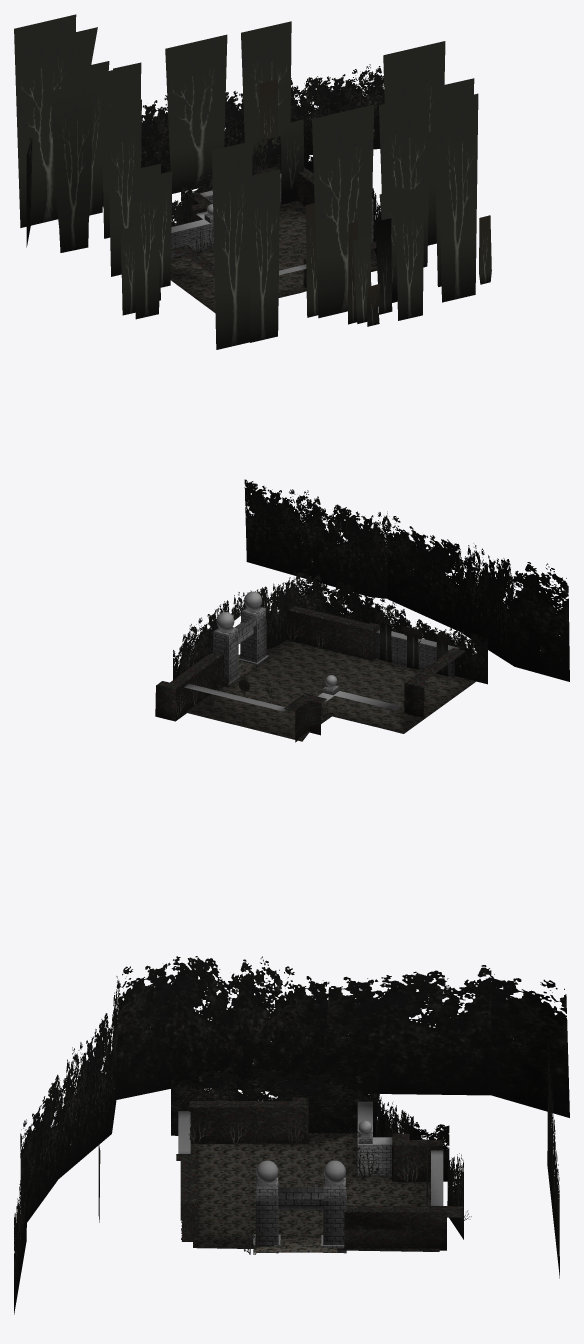
The model's file is room_0.glb.
3 renders of one model, top to bottom at view 1: azimuth 30°, elevation 25°; view 2: azimuth 150°, elevation 25°; view 3: azimuth 270°, elevation 25°, orthographic. The views are drawn at different scales.
Parts seen in each view (by area): view 1: pPlane274__billboard, pPlane277__billboard, pPlane292__billboard, pPlane50__billboard, pPlane269__billboard, farbushes, tree_43__billboard, pPlane326__billboard, pPlane271__billboard, pPlane275__billboard, pPlane53__billboard, ground1 (+23 smaller); view 2: farbushes, ground1, closebushes, polySurface25 (×4), polySurface26 (×3), pCube141, pCube136, pCube128, pCube145; view 3: farbushes, ground1, closebushes, polySurface25 (×4), polySurface26 (×3), pCube136, pCube128, pCube145, SeemPatch.
Part boxes in pixels (x1,y1,x2,y2): pPlane274__billboard: [312, 104, 374, 318]; pPlane277__billboard: [14, 14, 76, 227]; pPlane292__billboard: [165, 34, 227, 193]; pPlane50__billboard: [212, 141, 252, 349]; pPlane269__billboard: [437, 93, 478, 302]; farbushes: [26, 64, 384, 247]; tree_43__billboard: [50, 81, 93, 252]; pPlane326__billboard: [379, 94, 429, 267]; pPlane271__billboard: [250, 169, 280, 342]; pPlane275__billboard: [241, 21, 291, 167]; pPlane53__billboard: [107, 99, 141, 276]; ground1: [170, 201, 377, 312]; farbushes: [244, 479, 569, 681]; ground1: [185, 640, 476, 741]; closebushes: [173, 568, 487, 684]; polySurface25 (×4): [155, 610, 424, 742]; polySurface26 (×3): [157, 606, 465, 689]; pCube141: [376, 630, 459, 677]; pCube136: [184, 683, 401, 711]; pCube128: [240, 619, 266, 662]; pCube145: [213, 640, 238, 683]; farbushes: [14, 956, 569, 1314]; ground1: [190, 1133, 439, 1251]; closebushes: [171, 1065, 463, 1239]; polySurface25 (×4): [180, 1106, 446, 1250]; polySurface26 (×3): [176, 1097, 463, 1217]; pCube136: [357, 1101, 443, 1205]; pCube128: [255, 1191, 278, 1253]; pCube145: [323, 1191, 346, 1253]; SeemPatch: [254, 1237, 337, 1252].
Bounding box in the file's own units: 203 × 102 × 196.
13 materials, 13 textured.
